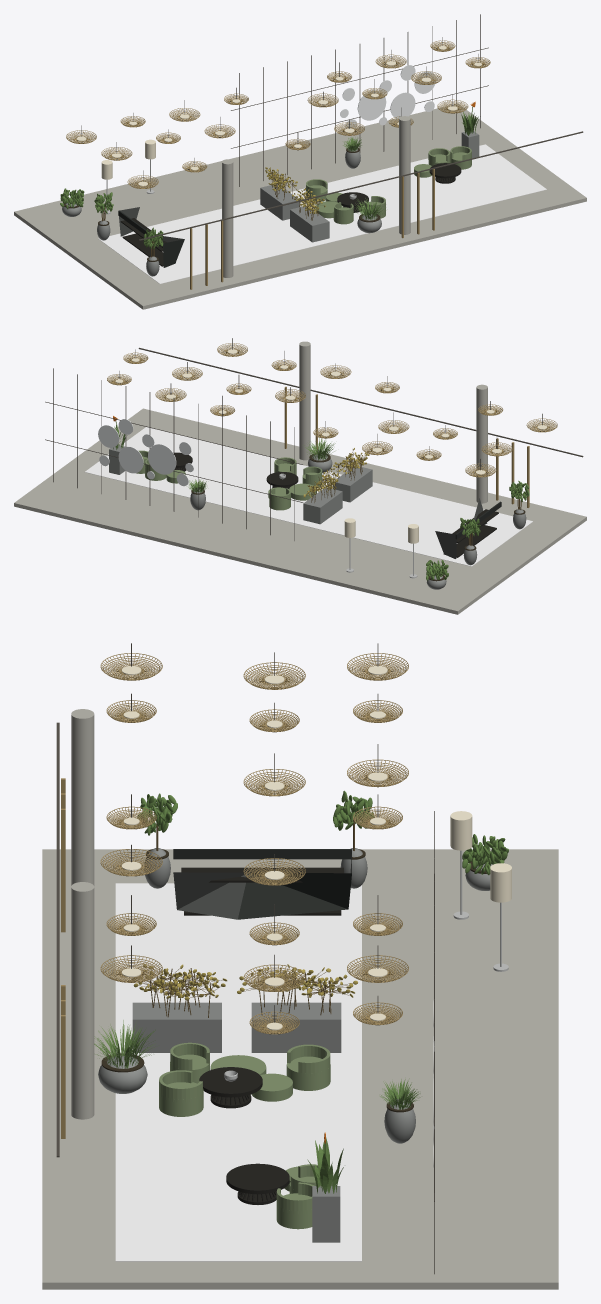
File: M3_cutaway.glb
3 renders of one model, top to bottom at view 1: azimuth 30°, elevation 25°; view 2: azimuth 150°, elevation 25°; view 3: azimuth 270°, elevation 25°, orthographic. The views are drawn at different scales.
Visible parts, largest first — view 1: floor, carpet_main, window_column_-18.8, window_column_-8.5, planter_center_left_container, window_transom, planter_center_right_container, round_mirror_00, round_mirror_01, reception_hidden_base_inferred, reception_visible_end_left; view 2: floor, carpet_main, window_column_-8.5, window_column_-18.8, planter_center_right_container, planter_center_left_container, window_transom, round_mirror_00, round_mirror_01, reception_hidden_base_inferred, reception_visible_end_right, round_mirror_02 (+2 smaller); view 3: floor, carpet_main, window_column_-8.5, window_column_-18.8, planter_center_left_container, reception_front_fold_right, planter_center_right_container, reception_front_fold_left, reception_rear_rim_inferred, window_transom, table_front_top, planter_front_tall_container (+23 smaller).
Boxes of the visible parts, x1=… form: floor: x1=14, y1=103, x2=586, y2=309; carpet_main: x1=98, y1=144, x2=546, y2=283; window_column_-18.8: x1=222, y1=159, x2=233, y2=277; window_column_-8.5: x1=399, y1=116, x2=410, y2=234; planter_center_left_container: x1=290, y1=206, x2=329, y2=242; window_transom: x1=139, y1=131, x2=583, y2=240; planter_center_right_container: x1=260, y1=184, x2=299, y2=220; round_mirror_00: x1=357, y1=90, x2=386, y2=120; round_mirror_01: x1=390, y1=92, x2=415, y2=118; reception_hidden_base_inferred: x1=122, y1=233, x2=175, y2=266; reception_visible_end_left: x1=163, y1=239, x2=184, y2=267; floor: x1=14, y1=408, x2=586, y2=614; carpet_main: x1=85, y1=427, x2=532, y2=566; window_column_-8.5: x1=299, y1=341, x2=310, y2=460; window_column_-18.8: x1=476, y1=384, x2=487, y2=503; planter_center_right_container: x1=303, y1=487, x2=342, y2=524; planter_center_left_container: x1=333, y1=466, x2=372, y2=502; window_transom: x1=138, y1=347, x2=583, y2=457; round_mirror_00: x1=148, y1=444, x2=176, y2=474; round_mirror_01: x1=118, y1=446, x2=143, y2=473; reception_hidden_base_inferred: x1=443, y1=525, x2=496, y2=557; reception_visible_end_right: x1=435, y1=531, x2=456, y2=558; round_mirror_02: x1=98, y1=425, x2=119, y2=447; floor: x1=42, y1=849, x2=558, y2=1289; carpet_main: x1=115, y1=883, x2=361, y2=1261; window_column_-8.5: x1=71, y1=882, x2=94, y2=1119; window_column_-18.8: x1=71, y1=709, x2=94, y2=885; planter_center_left_container: x1=132, y1=1002, x2=221, y2=1052; reception_front_fold_right: x1=238, y1=872, x2=351, y2=919; planter_center_right_container: x1=251, y1=1002, x2=341, y2=1052; reception_front_fold_left: x1=173, y1=872, x2=248, y2=919; reception_rear_rim_inferred: x1=173, y1=849, x2=351, y2=859; window_transom: x1=56, y1=722, x2=59, y2=1157; table_front_top: x1=226, y1=1163, x2=289, y2=1194; planter_front_tall_container: x1=312, y1=1186, x2=340, y2=1242.
Size of the model in its own units: 25.8 by 6.53 by 13.
